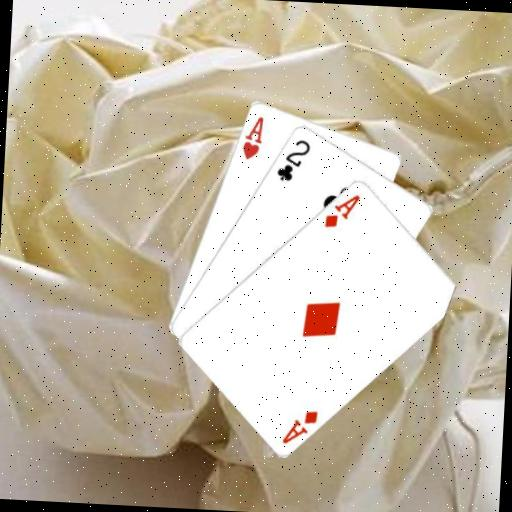2C: (273, 135, 312, 184)
AD: (321, 189, 363, 230), (279, 406, 320, 447)
AH: (238, 112, 266, 162)
